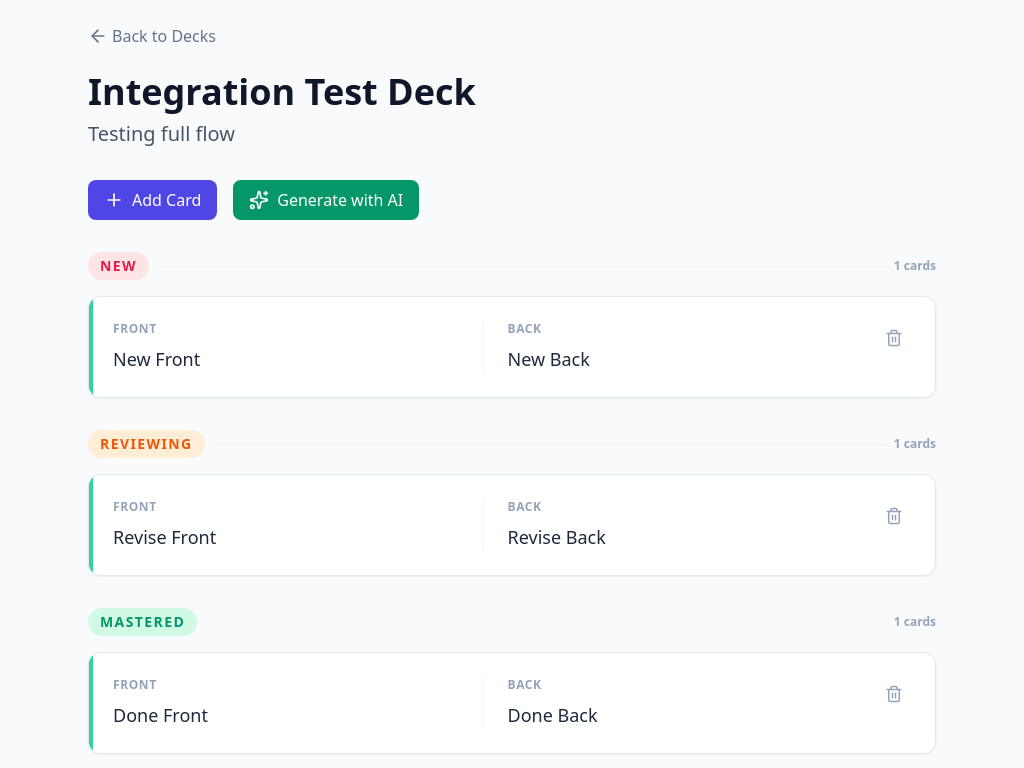
DeckView Component › opens and closes manual add card form
Click the button "Add Card".
click(153, 200)  # box [88, 180, 217, 220]
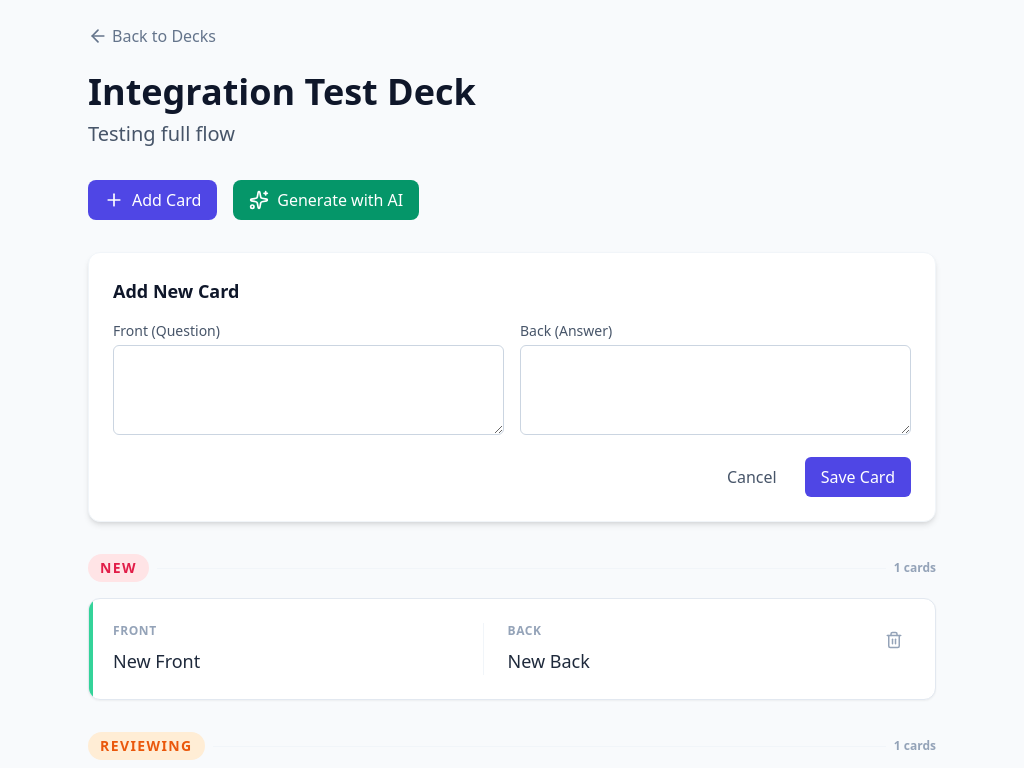
Expected: the heading "Add New Card" is shown, [113, 279, 239, 303]
Click the button "Cancel".
click(752, 477)  # box [711, 457, 793, 497]
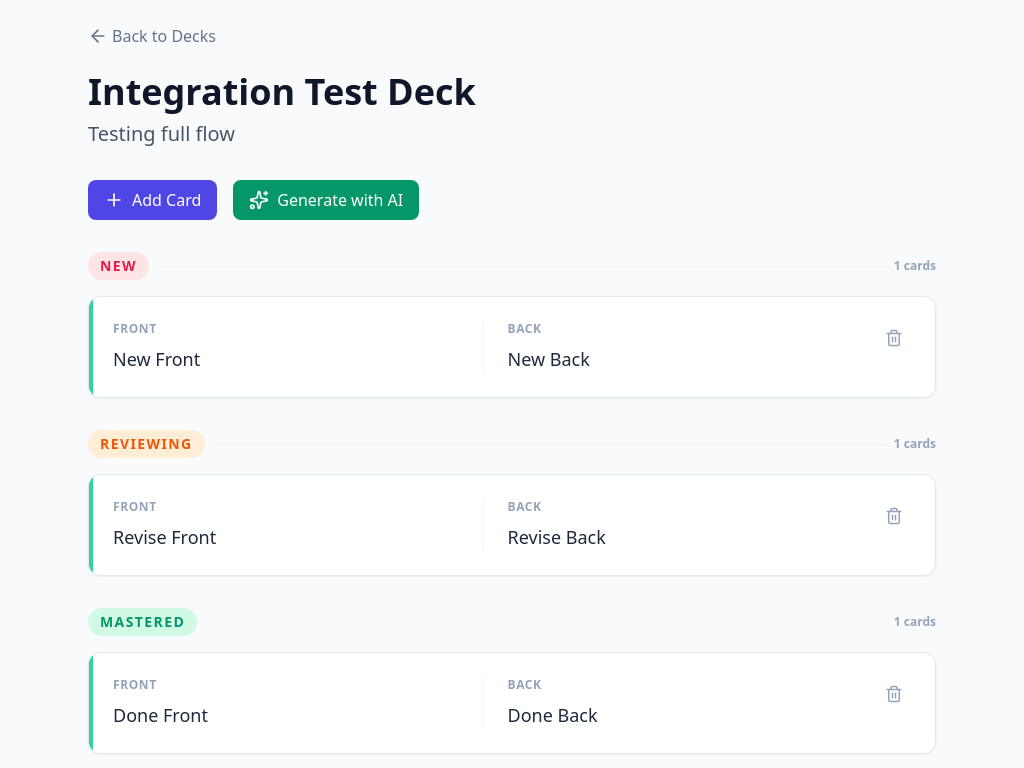
Expected: the heading "Add New Card" is gone
